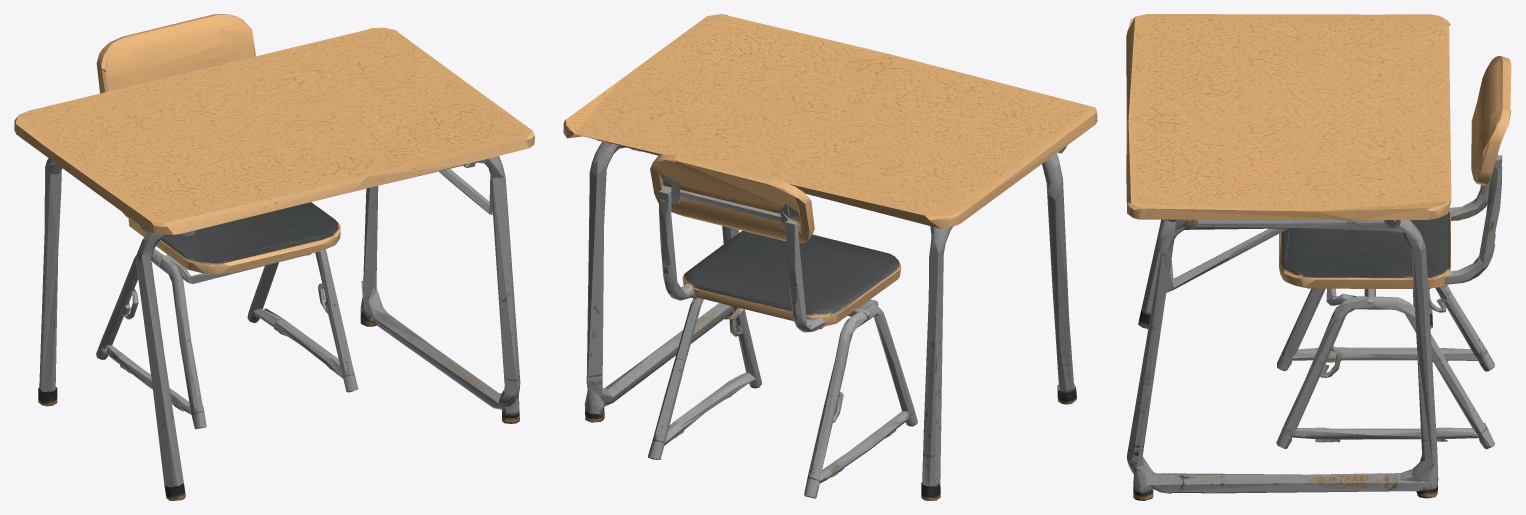
Rendered from School_desk.glb.
The picture shows the model from 3 angles, left to right: view 1: azimuth 30°, elevation 25°; view 2: azimuth 150°, elevation 25°; view 3: azimuth 270°, elevation 25°; orthographic projection. The views are drawn at different scales.
Bounding box in the file's own units: 1.9 × 1.48 × 1.58.
1 material, 1 textured.
